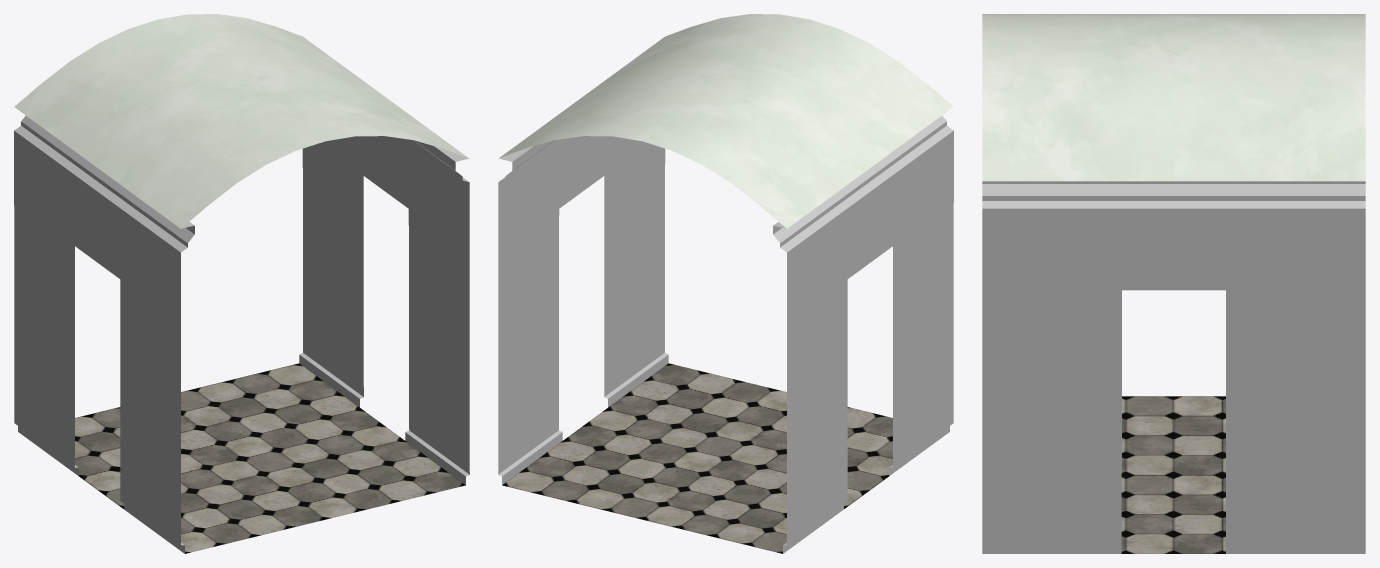
Rendered from corridor_doors.FBX.
3 renders of one model, left to right at view 1: azimuth 30°, elevation 25°; view 2: azimuth 150°, elevation 25°; view 3: azimuth 270°, elevation 25°, orthographic. The views are drawn at different scales.
Parts seen in each view (by area): view 1: Corridor_Doors; view 2: Corridor_Doors; view 3: Corridor_Doors.
Part boxes in pixels (x1,y1,x2,y2): Corridor_Doors: [14, 14, 469, 553]; Corridor_Doors: [498, 14, 953, 553]; Corridor_Doors: [982, 14, 1365, 553].
Size of the model in its own units: 160 by 200 by 160.
